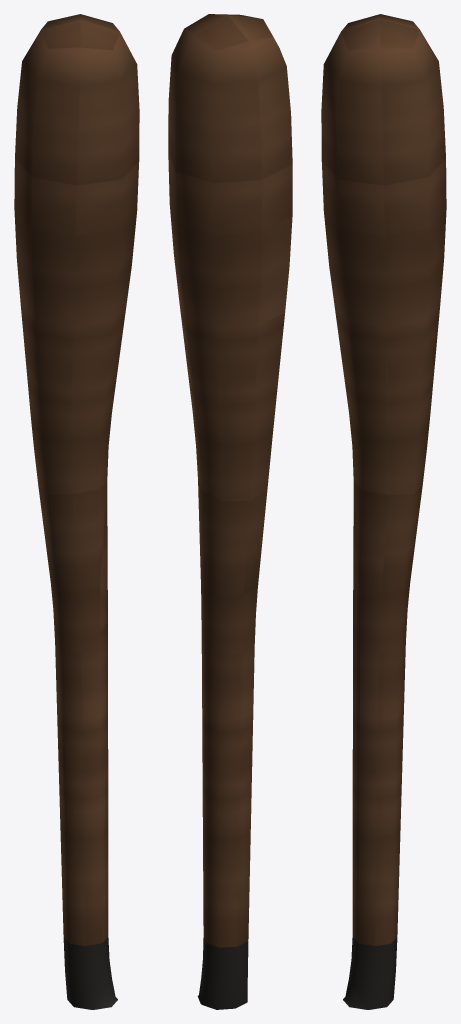
The model's file is SM_Deer_LegF.fbx.
The picture shows the model from 3 angles, left to right: view 1: azimuth 90°, elevation 25°; view 2: azimuth 210°, elevation 25°; view 3: azimuth 270°, elevation 25°; orthographic projection.
Visible parts, largest first — view 1: SM_Deer_LegF; view 2: SM_Deer_LegF; view 3: SM_Deer_LegF.
Part boxes in pixels (x1,y1,x2,y2): SM_Deer_LegF: (14,14,139,1009); SM_Deer_LegF: (168,14,292,1009); SM_Deer_LegF: (321,14,446,1009).
Bounding box in the file's own units: 0.4651 × 4.05 × 0.4684.
Materials: 1 (1 with a texture image).
